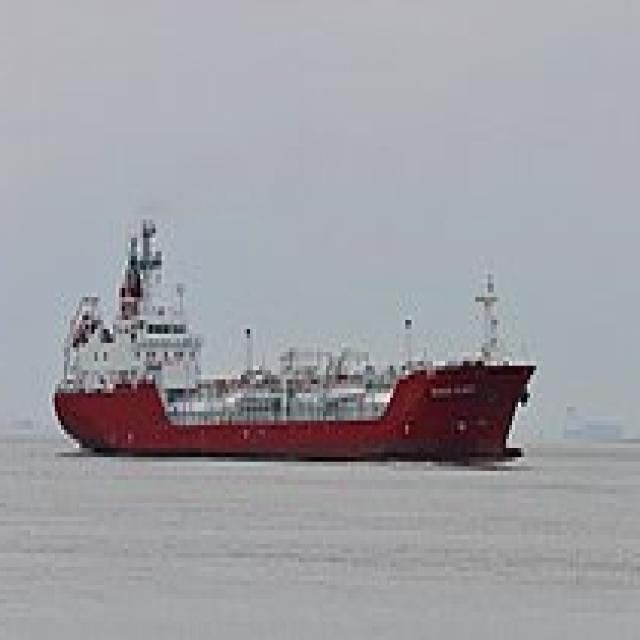Tanker: (55, 215, 542, 452)
